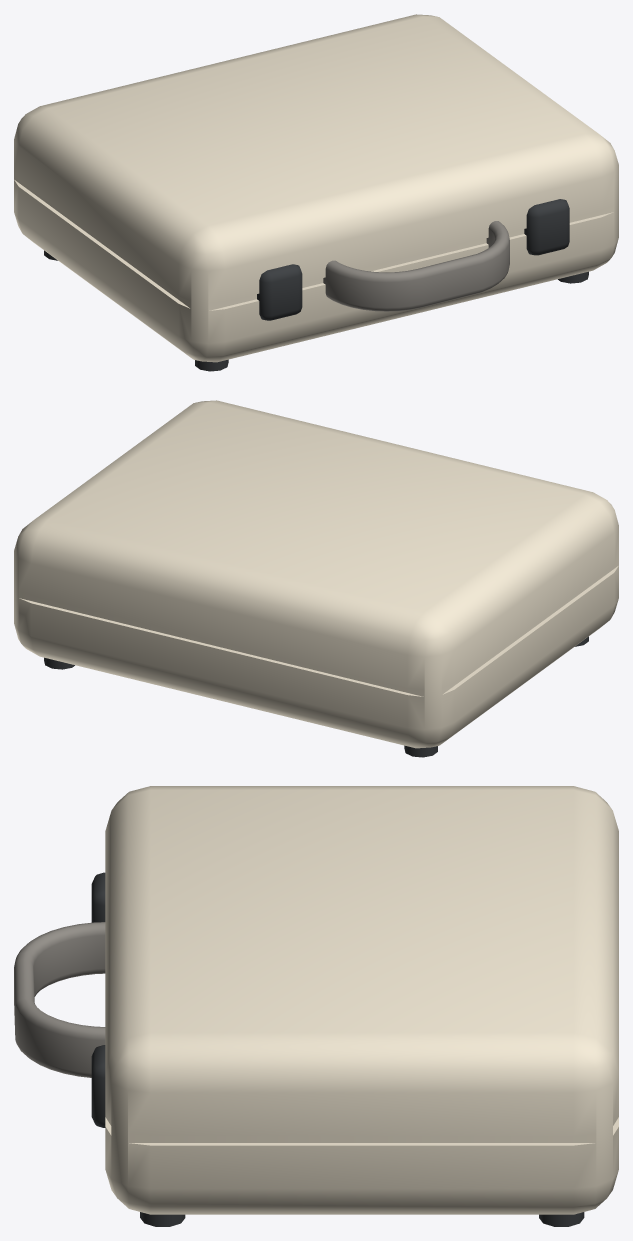
Rendered from bagage_mallette.glb.
3 views of the same model, one above another, from view 1: azimuth 30°, elevation 25°; view 2: azimuth 150°, elevation 25°; view 3: azimuth 270°, elevation 25° (orthographic). The views are drawn at different scales.
Parts seen in each view (by area): view 1: MAL_Coque.001, MAL_Sangles, MAL_Sombre; view 2: MAL_Coque.001, MAL_Sombre; view 3: MAL_Coque.001, MAL_Sangles, MAL_Sombre.
Boxes of the visible parts, box(x1,y1,x2,y2) form: MAL_Coque.001: box(14, 14, 618, 362); MAL_Sangles: box(323, 221, 509, 311); MAL_Sombre: box(44, 199, 588, 371); MAL_Coque.001: box(14, 400, 618, 748); MAL_Sombre: box(44, 636, 588, 757); MAL_Coque.001: box(105, 786, 618, 1214); MAL_Sangles: box(14, 922, 105, 1077); MAL_Sombre: box(91, 872, 584, 1226).
Size of the model in its own units: 0.44 by 0.139 by 0.4005.
